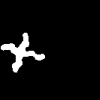single_crochet: (1, 33, 44, 71)
